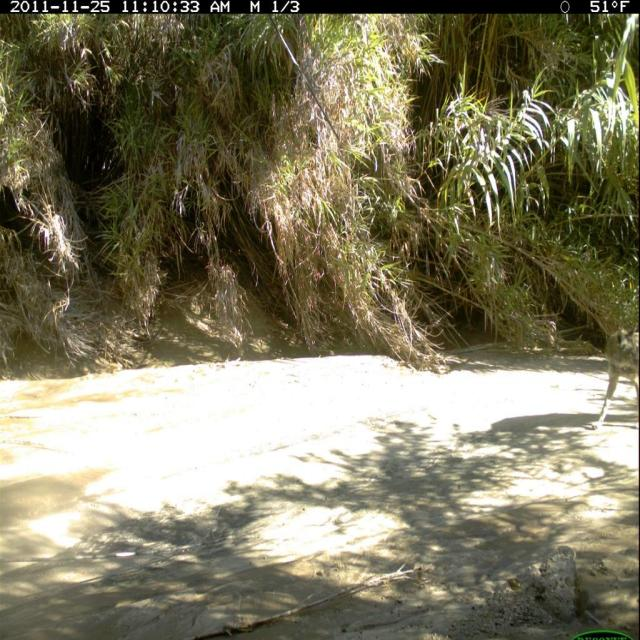coyote: (584, 315, 640, 438)
